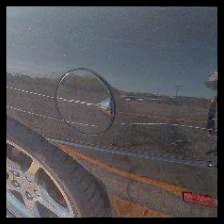door_scratch: (7, 80, 218, 160)
